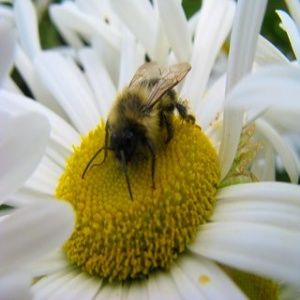bee: (80, 55, 204, 210)
